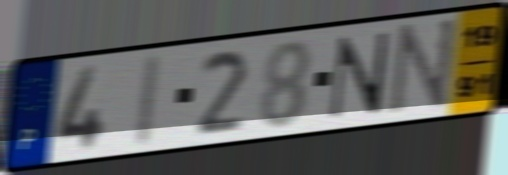2: (195, 47, 250, 139)
4: (54, 61, 108, 153)
8: (258, 36, 316, 130)
I: (129, 50, 166, 151)
N: (385, 15, 461, 118), (325, 28, 394, 122)
